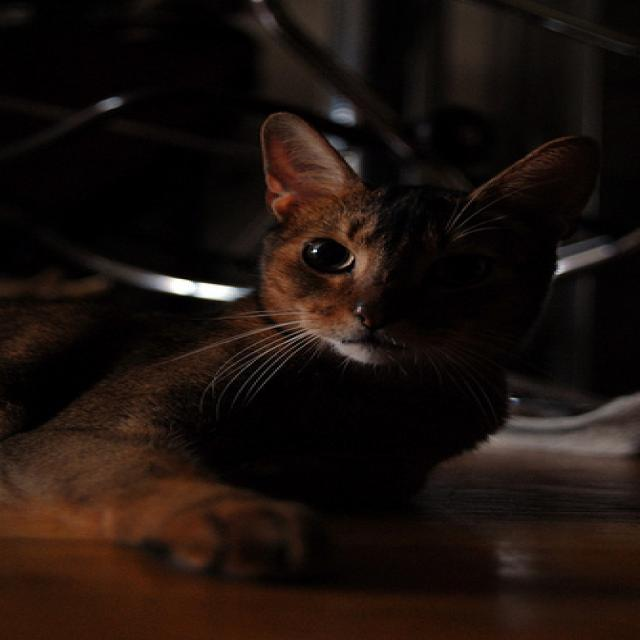Abyssinian: (256, 110, 598, 364)
